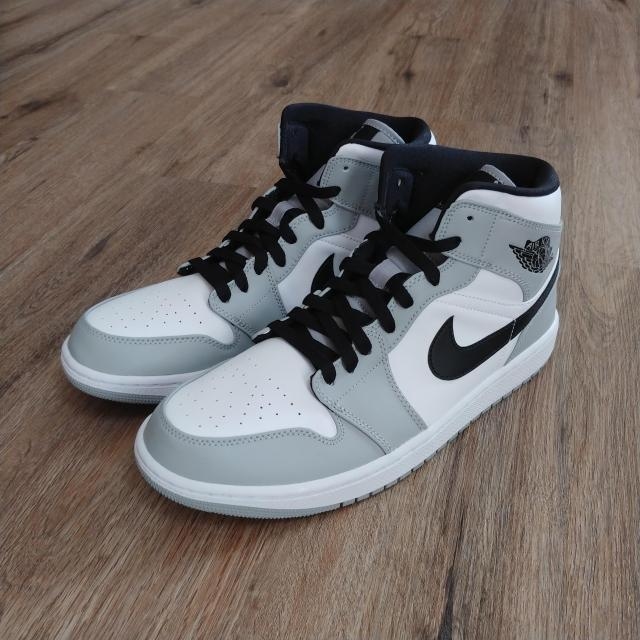shoe: (134, 139, 565, 532), (74, 86, 440, 424)
